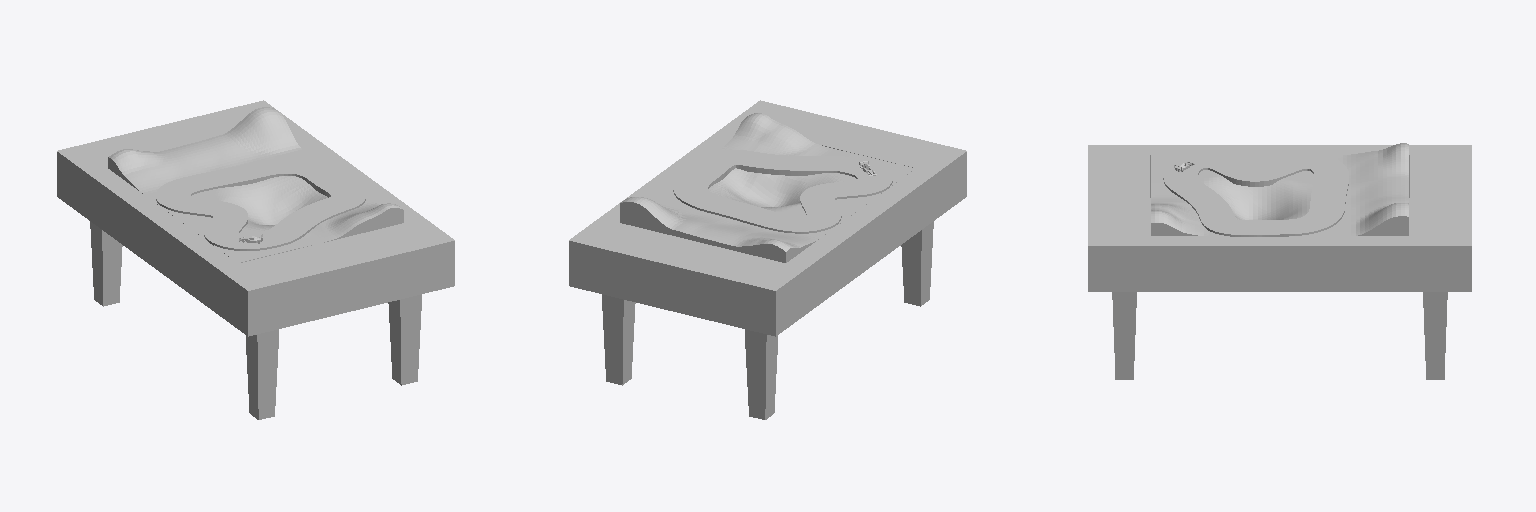
The model's file is NewestTisch61.obj.
3 renders of one model, left to right at view 1: azimuth 30°, elevation 25°; view 2: azimuth 150°, elevation 25°; view 3: azimuth 270°, elevation 25°, orthographic.
Visible parts, largest first — view 1: Tischplatte_wood_table_001, Landschaft_aerial_grass_rock, off, Bein1_wood_table_001, Bein4_wood_table_001.003, Bein3_wood_table_001.002; view 2: Tischplatte_wood_table_001, Landschaft_aerial_grass_rock, off, Bein2_wood_table_001.001, Bein3_wood_table_001.002, Bein4_wood_table_001.003; view 3: Tischplatte_wood_table_001, Landschaft_aerial_grass_rock, off, Bein1_wood_table_001, Bein2_wood_table_001.001.
Boxes of the visible parts, <box> form: Tischplatte_wood_table_001: <box>57,100,454,336</box>; Landschaft_aerial_grass_rock: <box>108,107,403,262</box>; off: <box>156,159,365,250</box>; Bein1_wood_table_001: <box>388,294,421,385</box>; Bein4_wood_table_001.003: <box>246,329,278,419</box>; Bein3_wood_table_001.002: <box>90,221,122,306</box>; Tischplatte_wood_table_001: <box>569,100,966,336</box>; Landschaft_aerial_grass_rock: <box>620,113,915,262</box>; off: <box>673,150,892,233</box>; Bein2_wood_table_001.001: <box>602,294,635,385</box>; Bein3_wood_table_001.002: <box>745,329,777,419</box>; Bein4_wood_table_001.003: <box>901,221,933,306</box>; Tischplatte_wood_table_001: <box>1088,145,1471,291</box>; Landschaft_aerial_grass_rock: <box>1151,143,1408,235</box>; off: <box>1163,153,1348,236</box>; Bein1_wood_table_001: <box>1112,292,1136,379</box>; Bein2_wood_table_001.001: <box>1423,292,1447,379</box>.
Bounding box in the file's own units: 5 × 3.91 × 8.